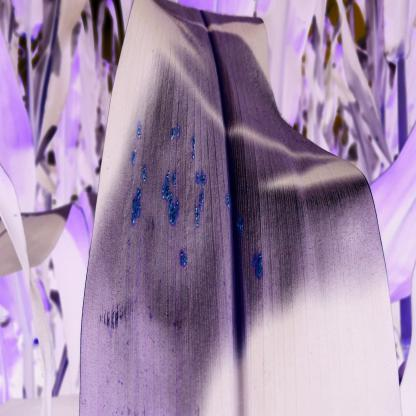corn rust leaf: (88, 0, 407, 416)
